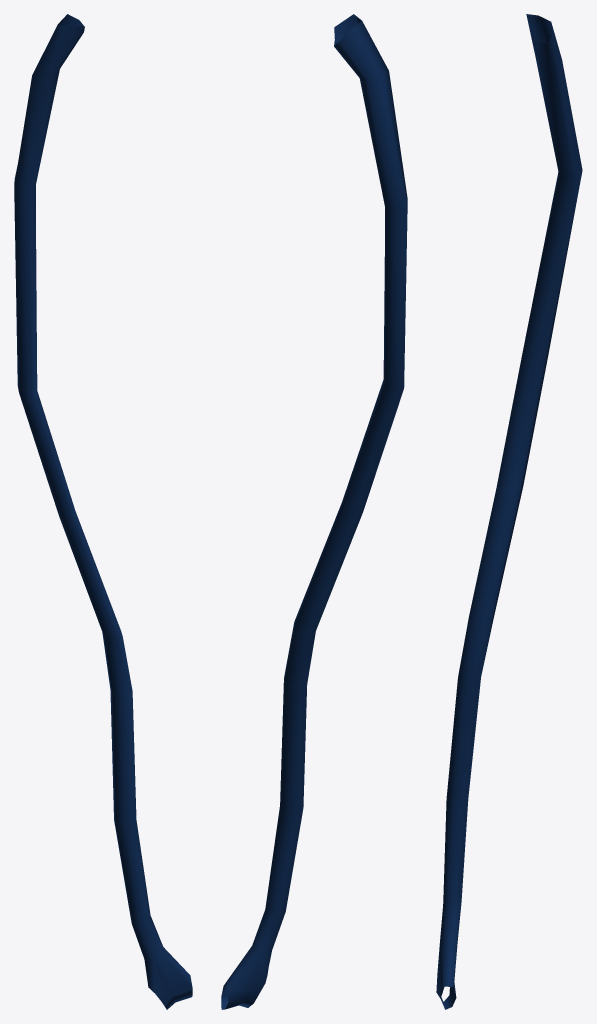
File: L vena digitalis palmaris communis II.fbx
3 renders of one model, left to right at view 1: azimuth 30°, elevation 25°; view 2: azimuth 210°, elevation 25°; view 3: azimuth 270°, elevation 25°, orthographic. The views are drawn at different scales.
Visible parts, largest first — view 1: L vena digitalis palmaris communis II, L vena digitalis palmaris communis II low; view 2: L vena digitalis palmaris communis II, L vena digitalis palmaris communis II low; view 3: L vena digitalis palmaris communis II, L vena digitalis palmaris communis II low.
Part boxes in pixels (x1,y1,x2,y2): L vena digitalis palmaris communis II: [14, 14, 192, 1009]; L vena digitalis palmaris communis II low: [14, 16, 187, 1008]; L vena digitalis palmaris communis II: [221, 14, 407, 1009]; L vena digitalis palmaris communis II low: [226, 22, 407, 1008]; L vena digitalis palmaris communis II: [436, 14, 582, 1009]; L vena digitalis palmaris communis II low: [439, 18, 581, 1004].
Size of the model in its own units: 1.33 by 9.62 by 1.33.
